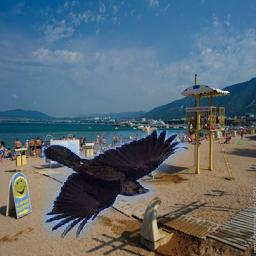Crow: (42, 130, 188, 238)
